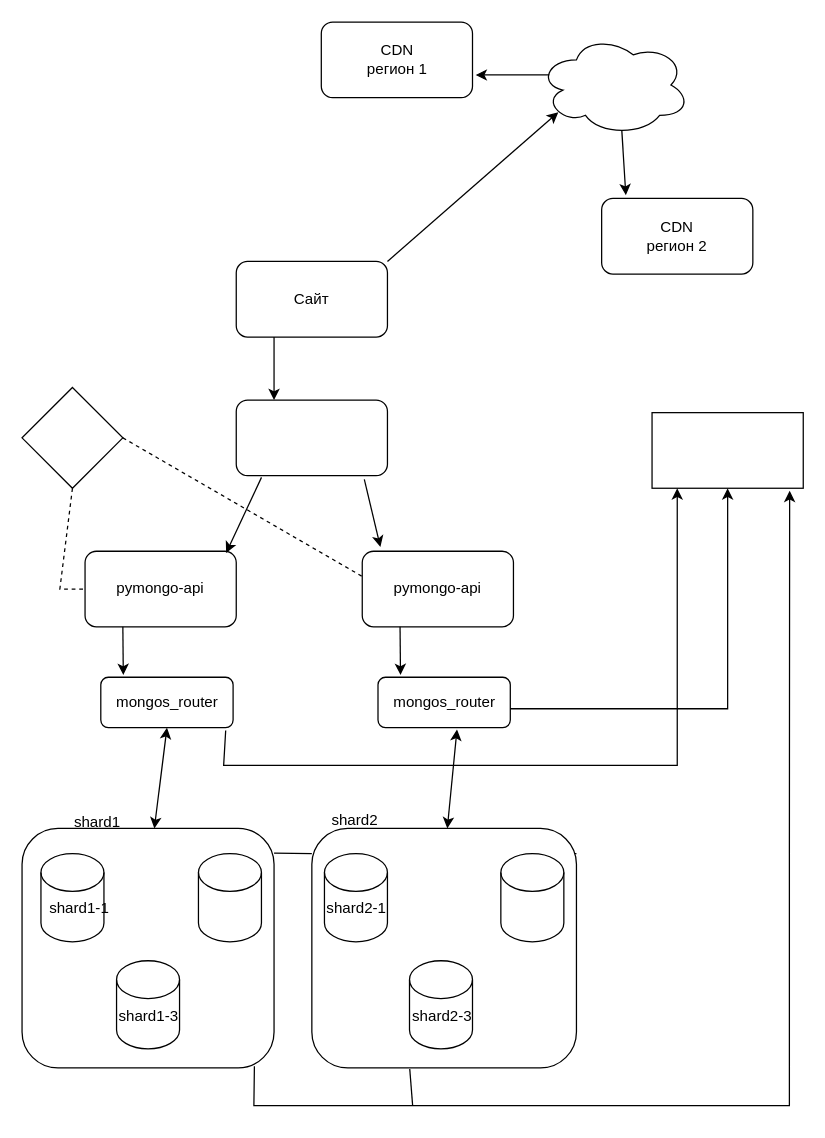
This 825x1138 diagram has some shape labels left out. The centre of each missing label's shape, as x and y in pixels:
API Gateway: point 311,437
CDN: point 613,84
configSrv: point 727,449
redis: point 72,437
shard1-2: point 229,897
shard2-2: point 532,897
